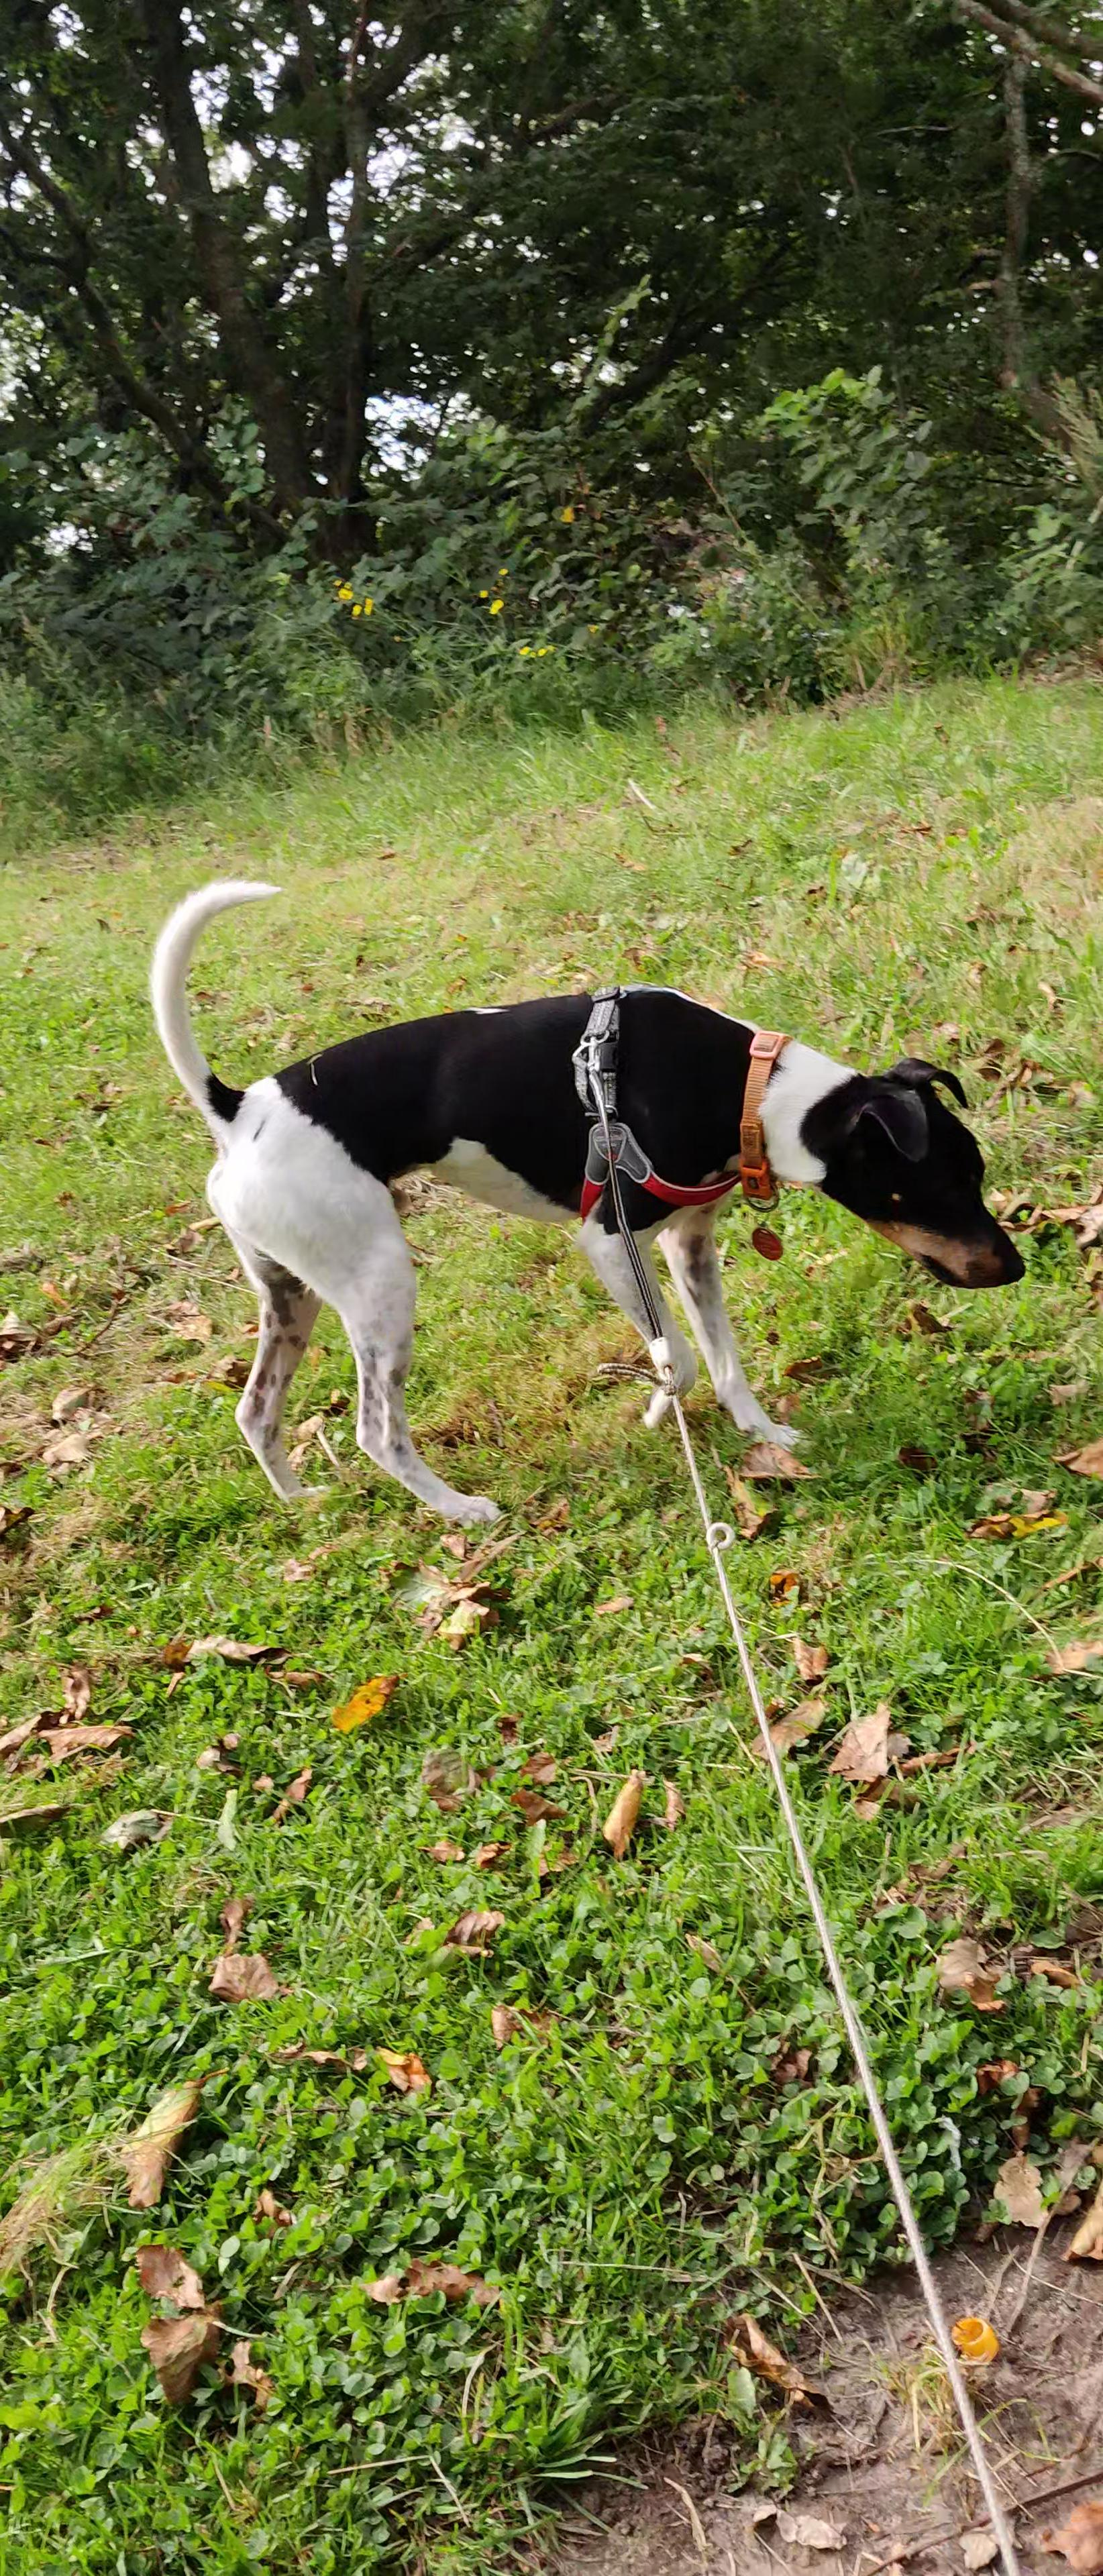Dog: (113, 858, 1055, 1551)
